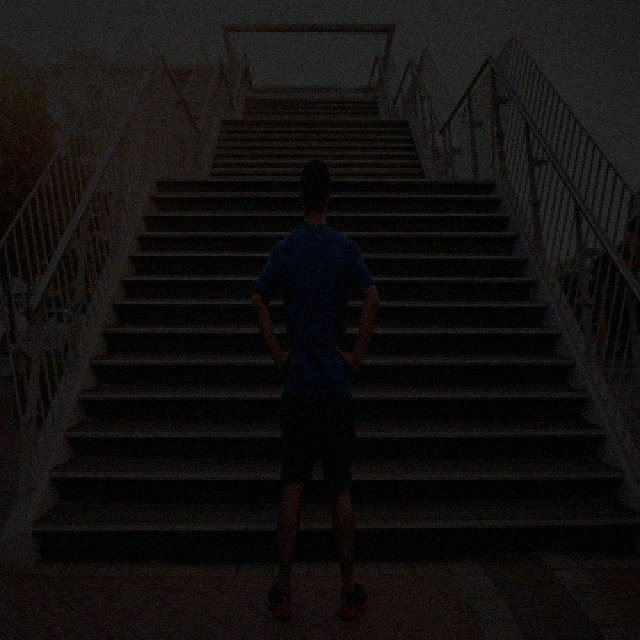stair: (34, 96, 638, 562)
